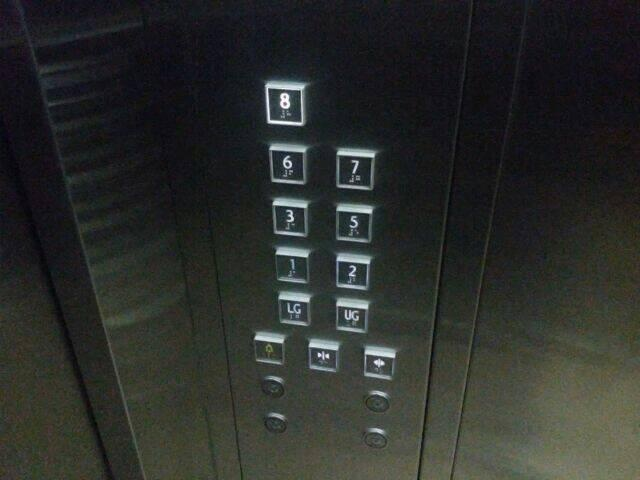1: (273, 246, 314, 286)
2: (333, 252, 374, 293)
3: (270, 195, 312, 238)
5: (333, 200, 377, 245)
6: (268, 141, 314, 186)
7: (333, 146, 379, 192)
8: (264, 79, 313, 127)
LG: (277, 289, 314, 328)
UG: (334, 297, 370, 335)
alarm: (251, 330, 289, 366)
close: (306, 338, 343, 372)
keyhole: (362, 387, 393, 415), (260, 373, 287, 401), (360, 425, 390, 450), (263, 411, 292, 435)
open: (362, 343, 398, 382)
